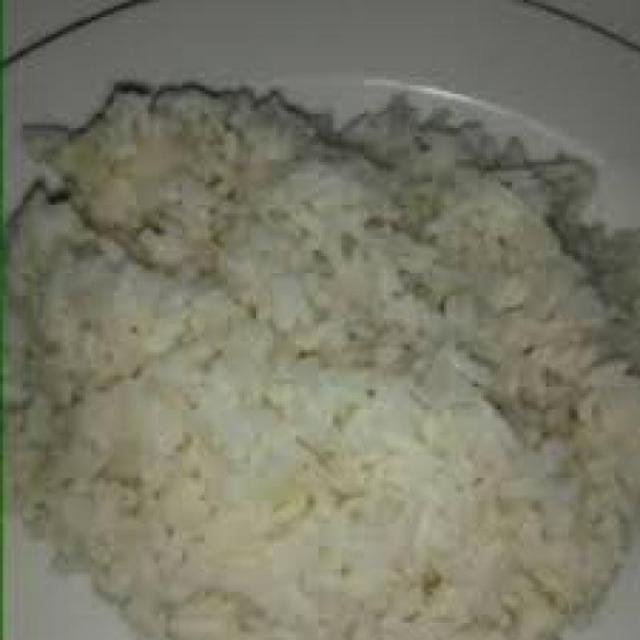rice: (1, 72, 640, 640)
